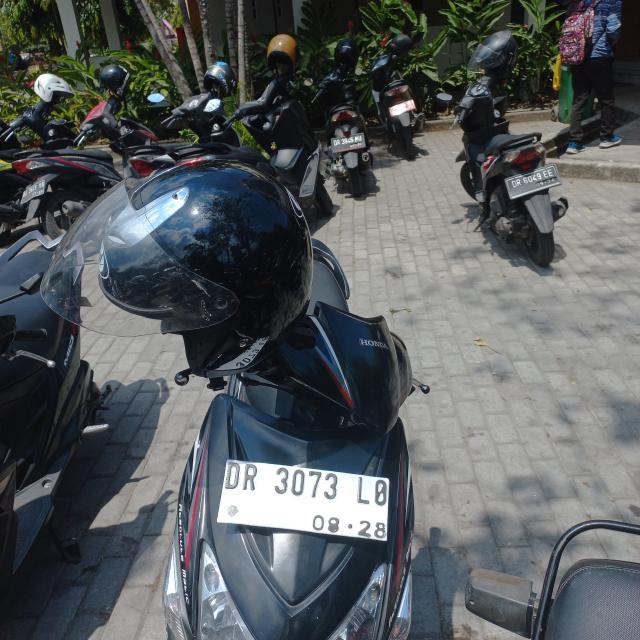plate: (218, 458, 390, 542), (507, 165, 559, 195), (332, 134, 365, 152)
